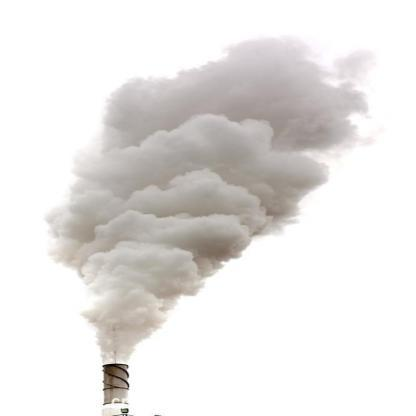smoke: (67, 114, 335, 192), (226, 35, 378, 153), (66, 162, 268, 233), (61, 210, 255, 266), (99, 57, 223, 143), (62, 242, 204, 295), (95, 290, 144, 362)
